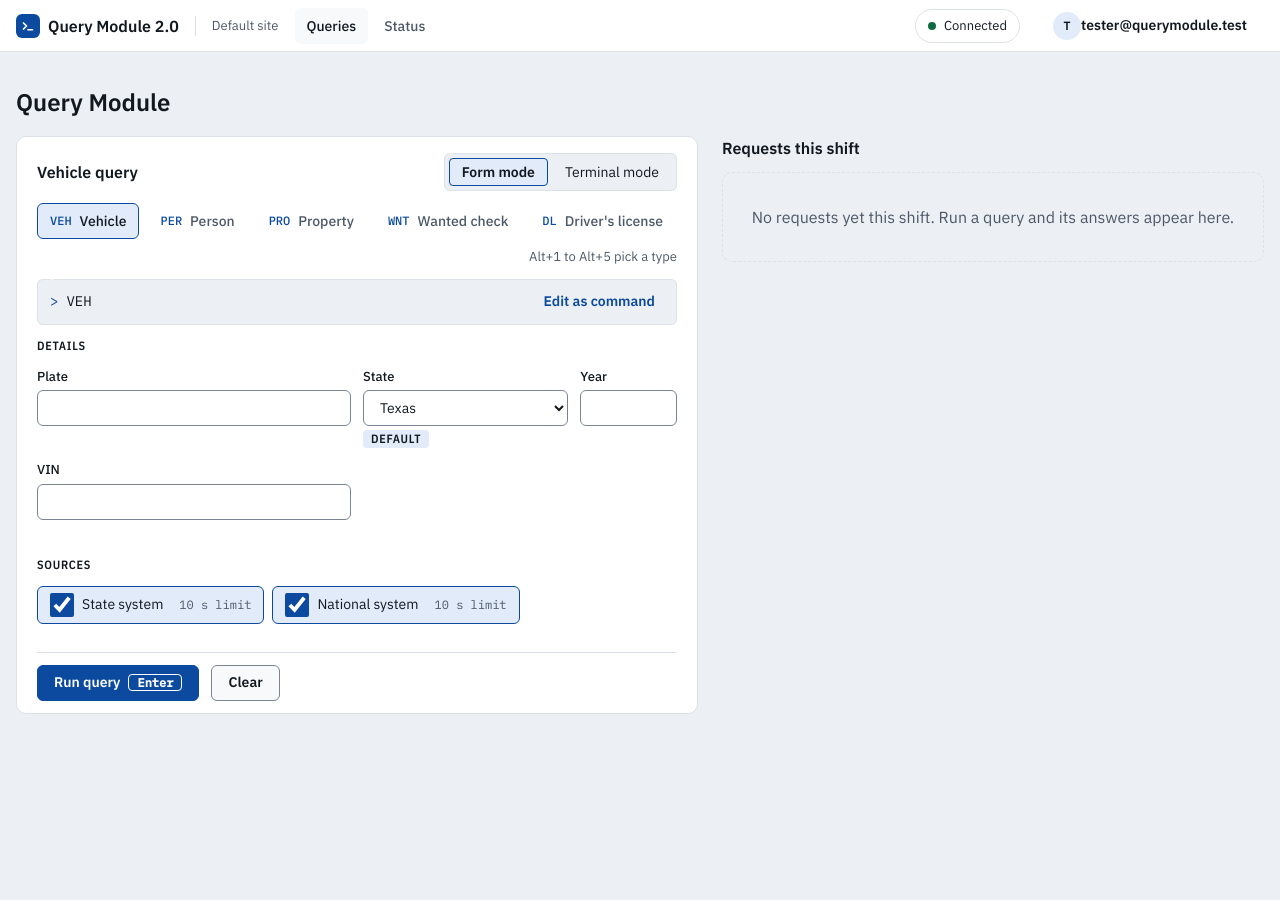
Scenario: B3 dispatcher requests list (spec 6.7) › two parts to one source list that source under each part (FR-043: status is per part and source)
Type "ZZ-0001" into the field labelled "Plate" at (194, 408), box [37, 390, 351, 426]
Then press Enter
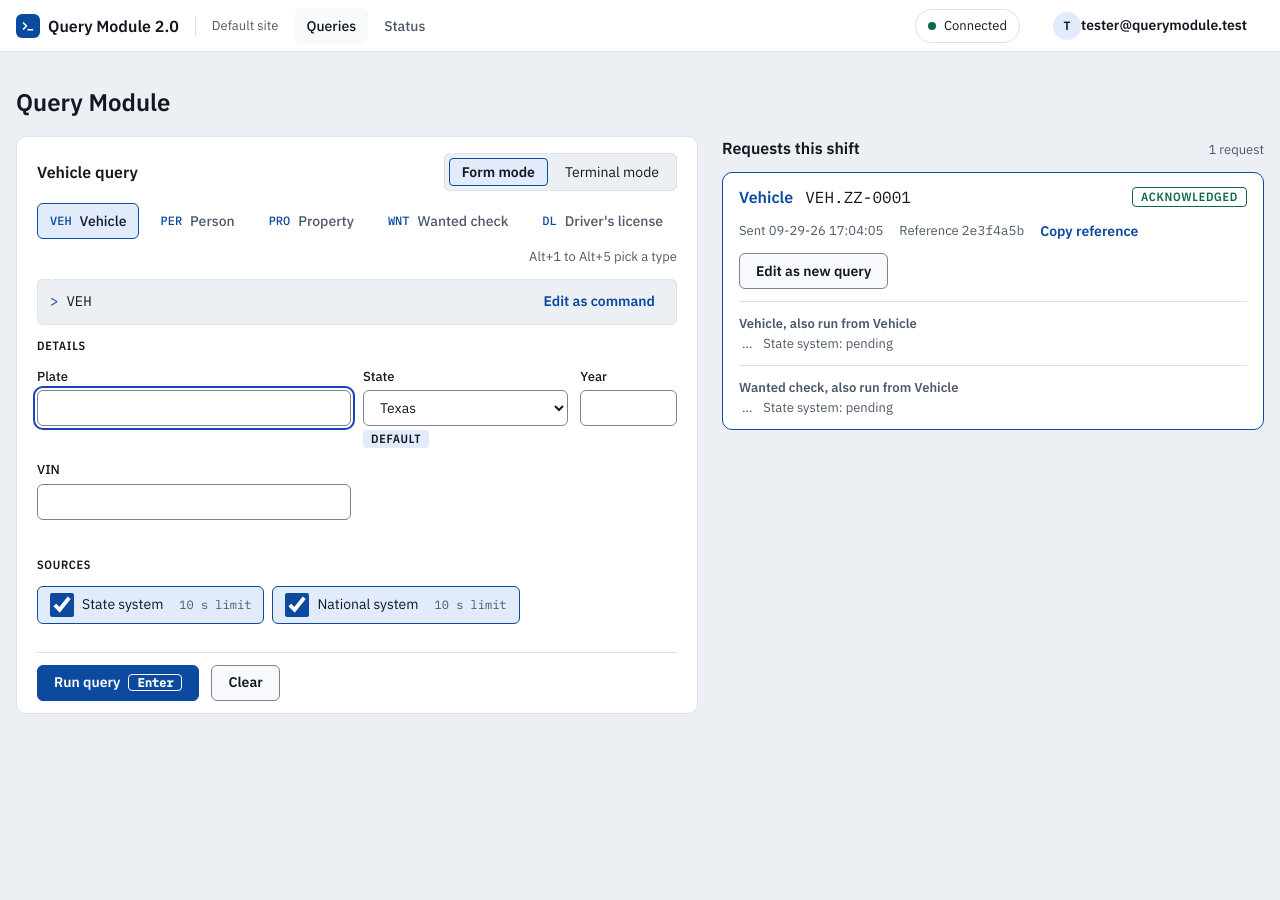
Now the list item shows "Acknowledged", box [1141, 189, 1238, 204]
Now the text "State system: pending" is shown 2 times, box [763, 334, 893, 353]; [763, 398, 893, 417]
